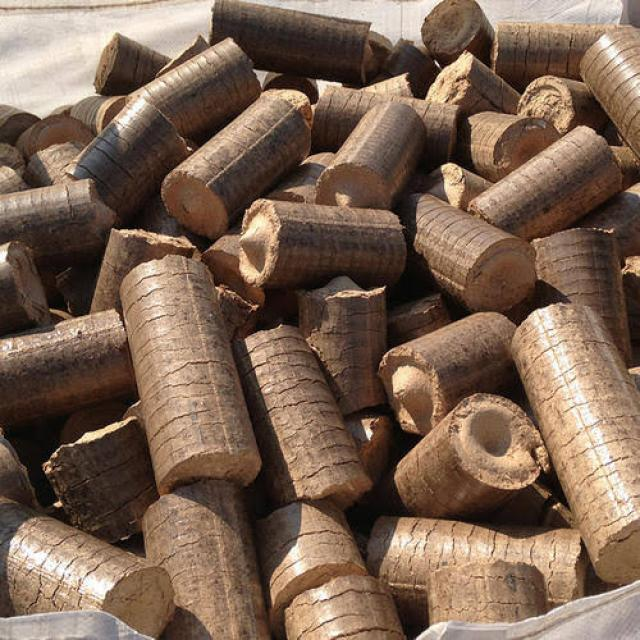green waste: (0, 16, 640, 640)
